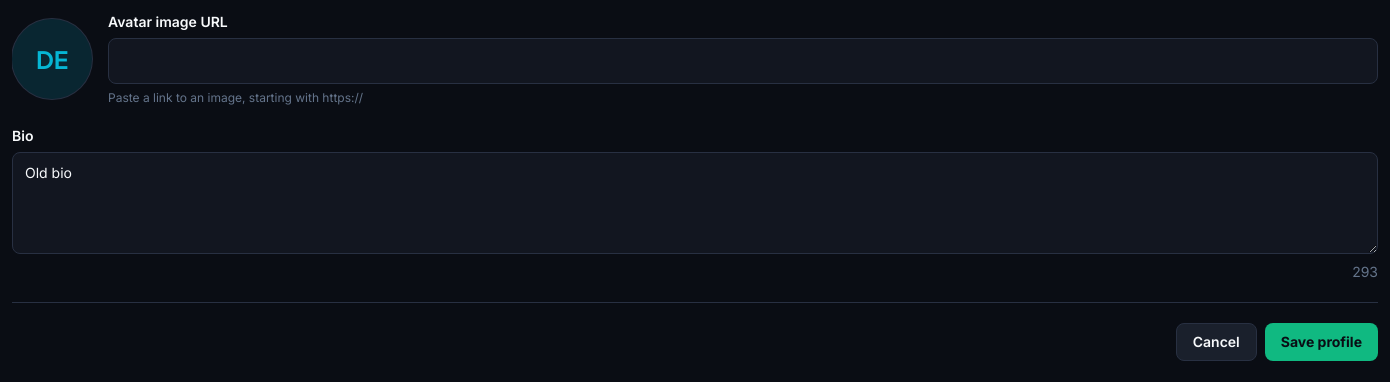
EditProfileForm › rejects avatar links that are not http(s)
The width and height of the screenshot is (1390, 382).
Type "ftp://img/me.png" into the field labelled "Avatar image URL" at (743,61), box [108,38,1378,84]
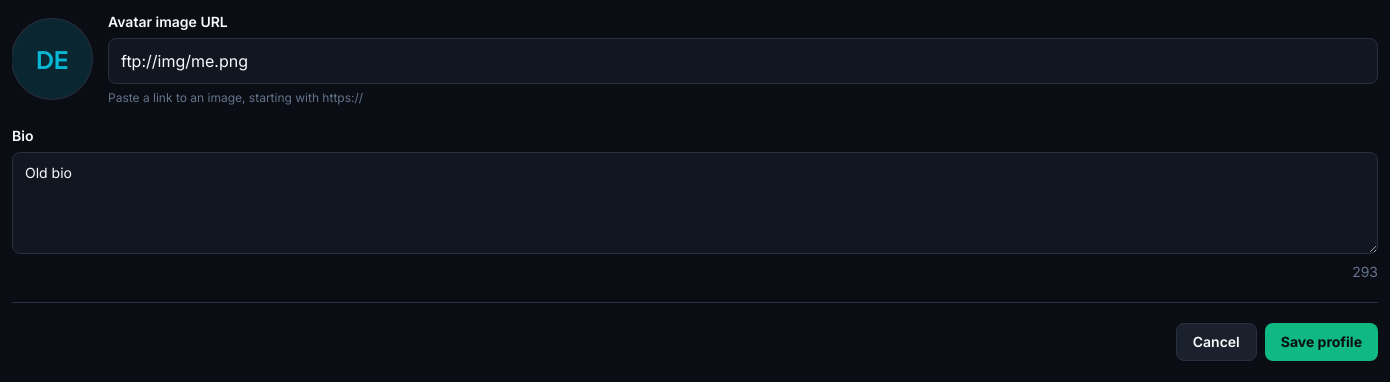
Submit the form
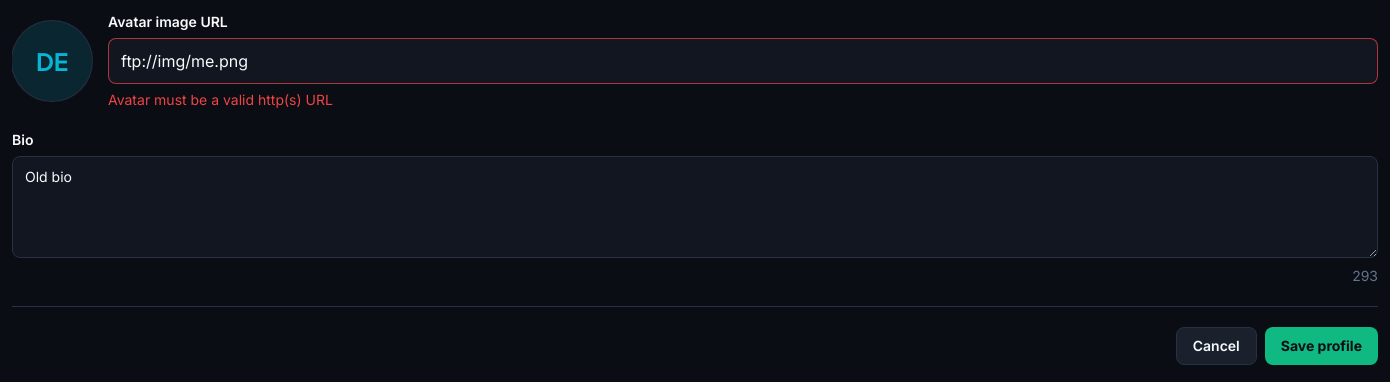
Check: the form shows "Avatar must be a valid http(s) URL", box [108,91,333,108]
